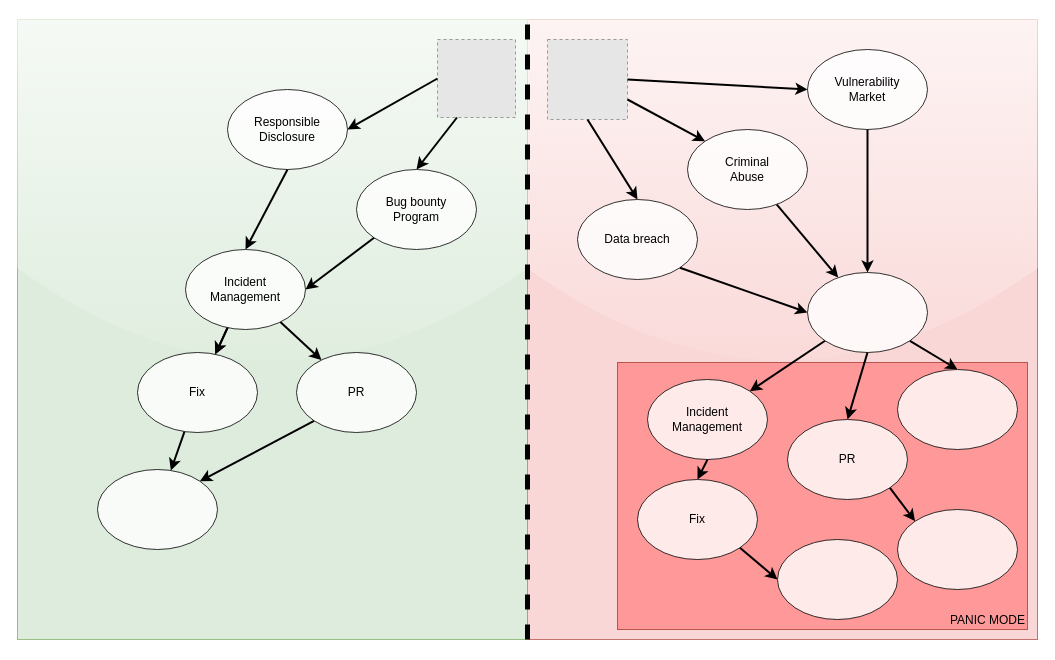
The diagram is 1055 pixels wide and 660 high, and some of its shapes have lost their labels. Grey dashed boxes stand in for pictures. The centre of each missing label's shape, as x and y in pixels:
"2nd Fix" belongs at [837,579].
"Damage" belongs at [867,312].
"Full disclosure" belongs at [157,509].
"Legal" belongs at [957,409].
"Nightmare" belongs at [957,549].
